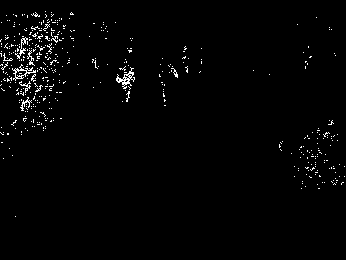person: (115, 61, 135, 104)
